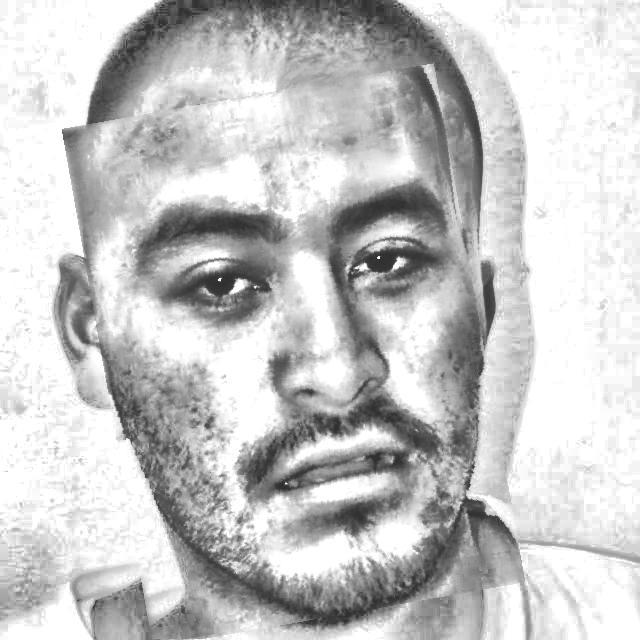sad: (84, 78, 504, 633)
